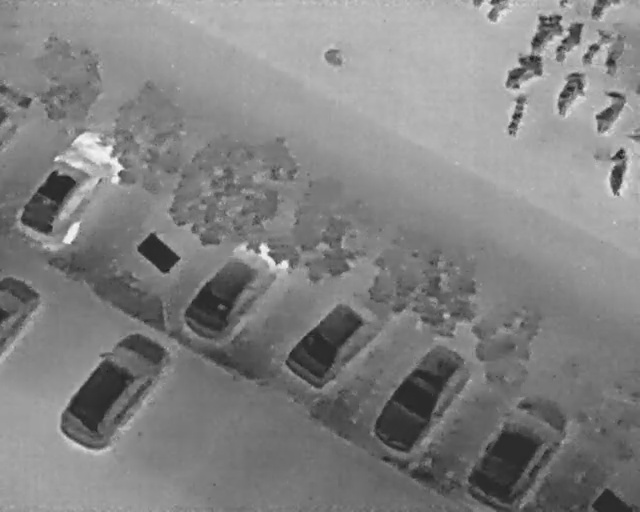Bicycle: (545, 63, 596, 124), (495, 44, 551, 99), (519, 5, 568, 61), (584, 83, 632, 139), (546, 15, 588, 68), (574, 23, 616, 69), (602, 144, 632, 198), (599, 29, 630, 79), (503, 90, 531, 139), (484, 0, 507, 23), (588, 0, 611, 19)
Car: (45, 316, 180, 463), (9, 111, 133, 257), (173, 220, 299, 358), (360, 332, 480, 463), (462, 379, 578, 511), (275, 281, 391, 400), (0, 273, 42, 360)
